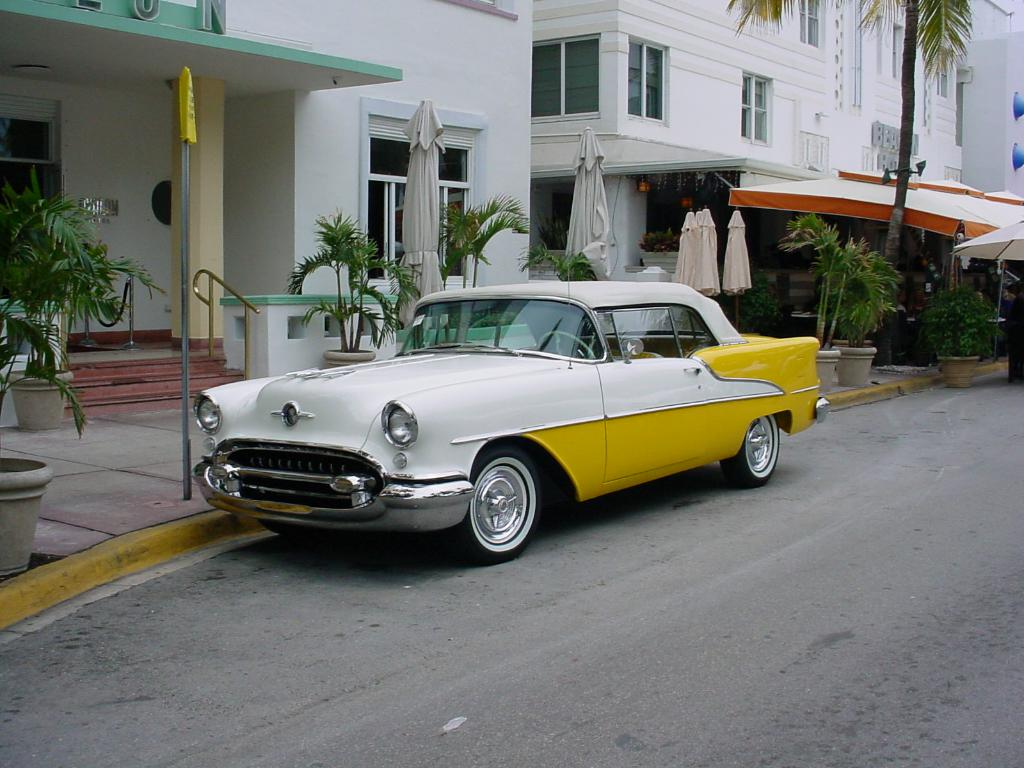mobil: (195, 269, 847, 562)
